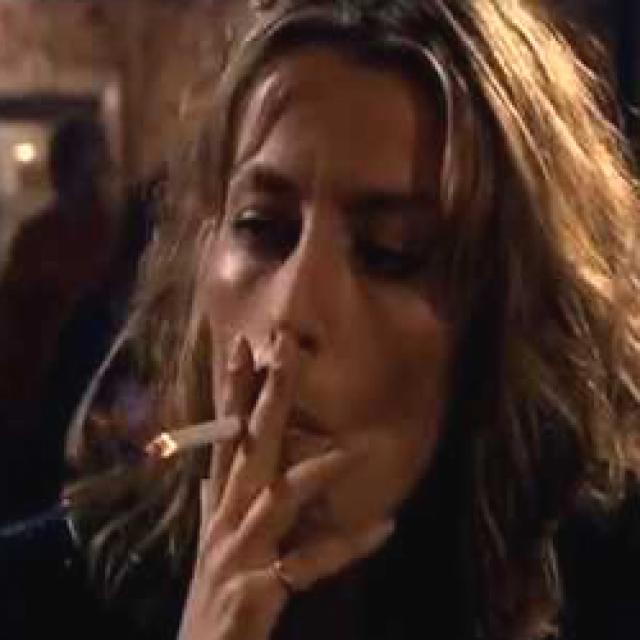Smooking: (97, 403, 259, 463)
